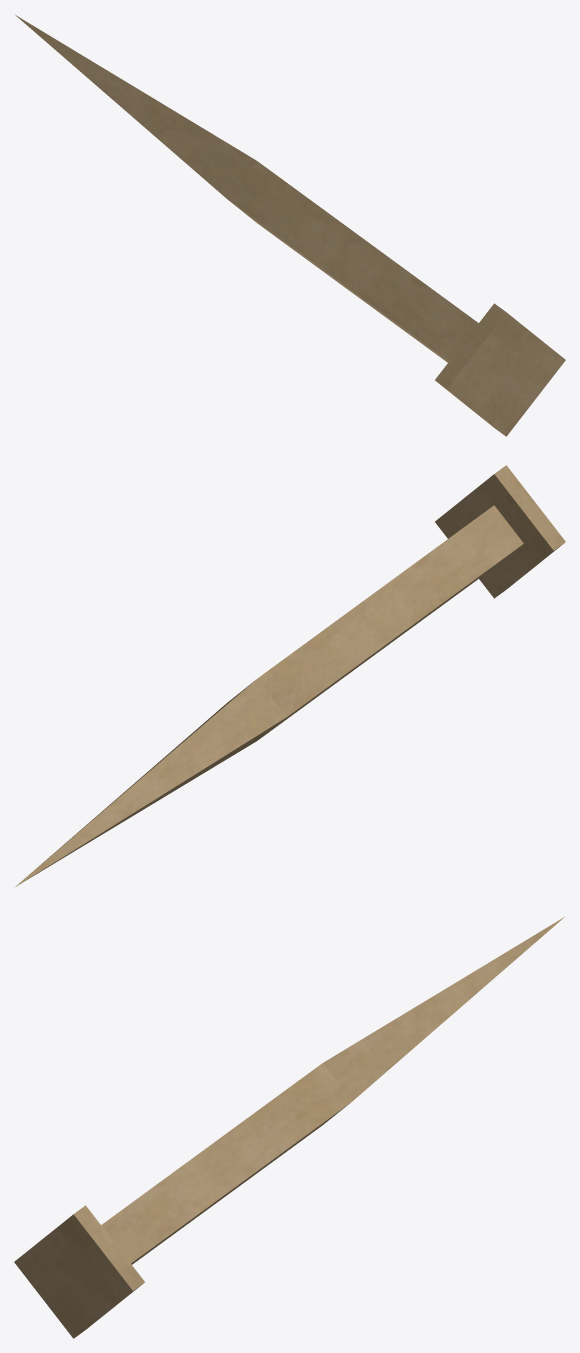
The model's file is nail.glb.
The picture shows the model from 3 angles, top to bottom: view 1: azimuth 30°, elevation 25°; view 2: azimuth 150°, elevation 25°; view 3: azimuth 330°, elevation 25°; orthographic projection.
Parts seen in each view (by area): view 1: Cube; view 2: Cube; view 3: Cube.
Part boxes in pixels (left/top/right/bottom): Cube: left=15, top=15, right=565, bottom=436; Cube: left=15, top=465, right=565, bottom=886; Cube: left=14, top=917, right=564, bottom=1338.
Size of the model in its own units: 0.2828 by 0.2828 by 2.02.
Materials: 1 (1 with a texture image).
